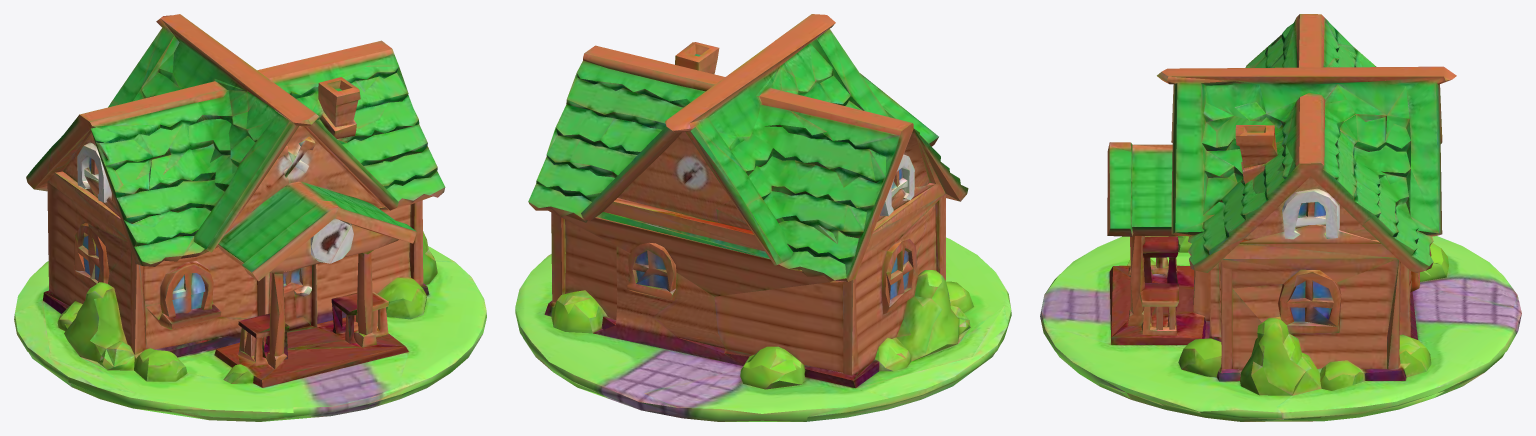
Rendered from clubhouse_w.glb.
3 views of the same model, side by side, from view 1: azimuth 30°, elevation 25°; view 2: azimuth 150°, elevation 25°; view 3: azimuth 270°, elevation 25° (orthographic). The views are drawn at different scales.
Size of the model in its own units: 1.9 by 1.11 by 1.9.
1 material, 1 textured.
